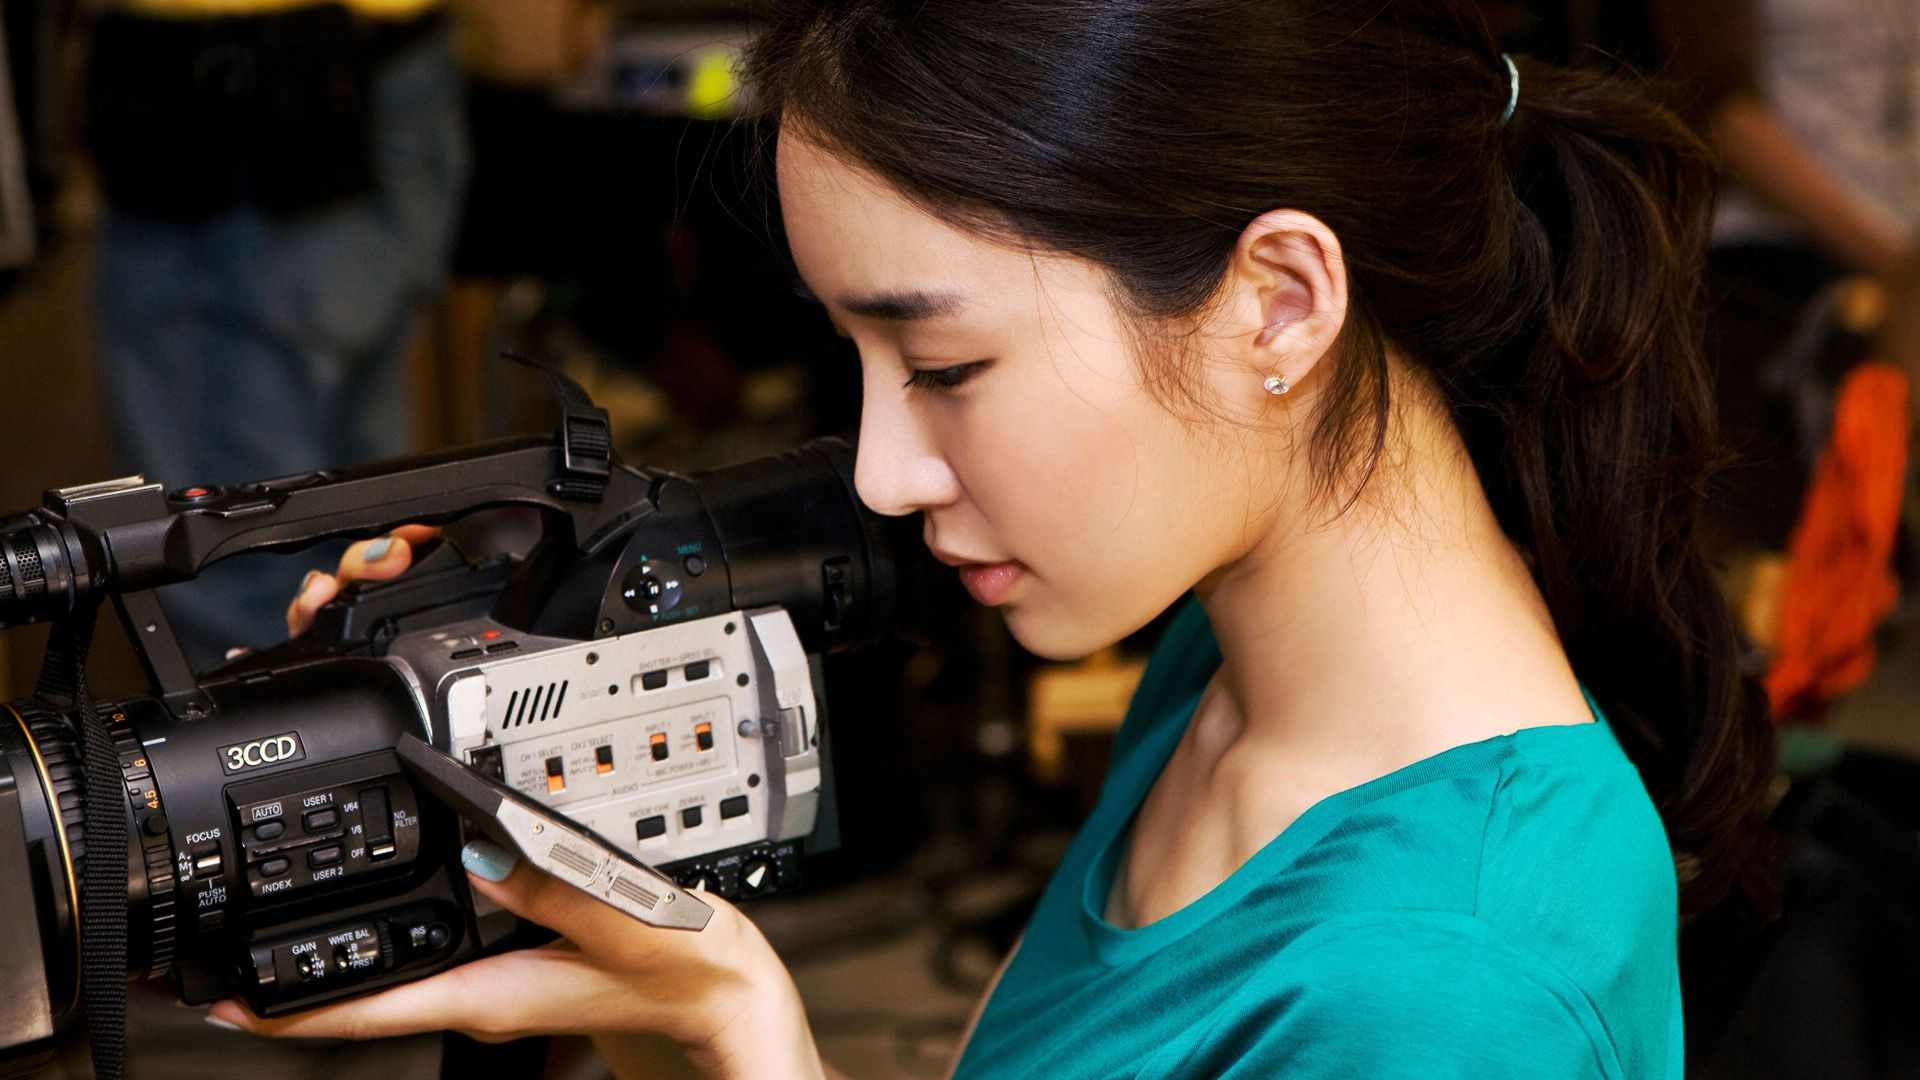person: (657, 37, 1741, 1080)
